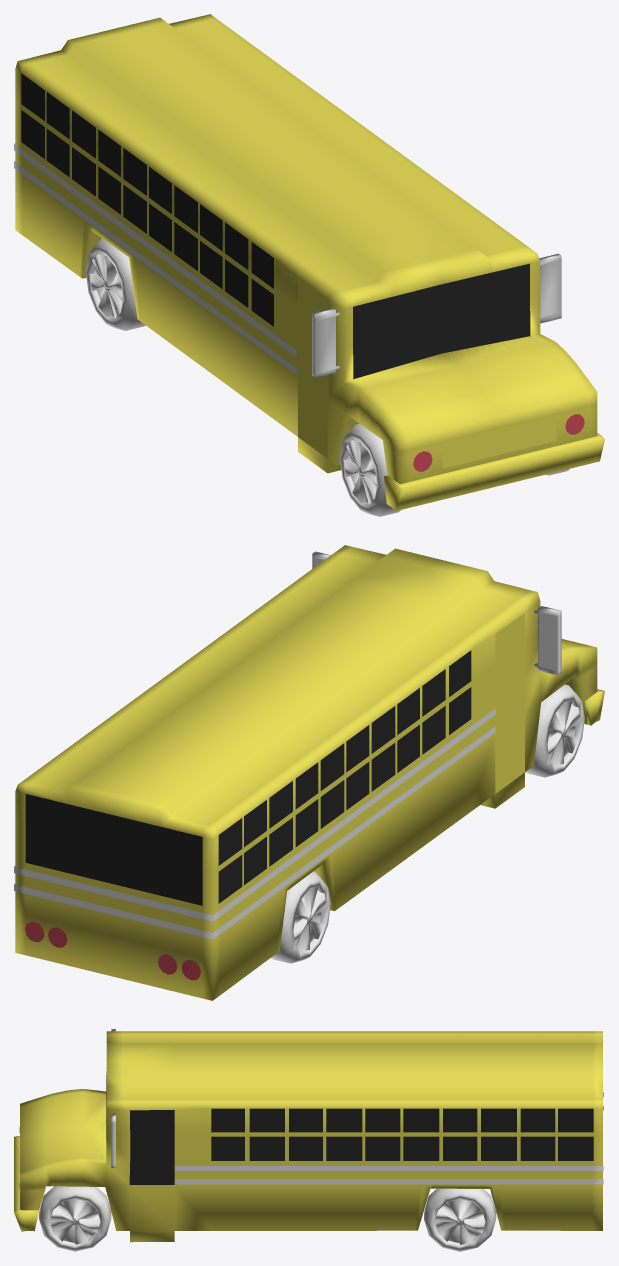
Rendered from bus_school.fbx.
3 renders of one model, top to bottom at view 1: azimuth 30°, elevation 25°; view 2: azimuth 150°, elevation 25°; view 3: azimuth 270°, elevation 25°, orthographic. The views are drawn at different scales.
Visible parts, largest first — view 1: bus, windows, bumper, plasticGuard, door, grill, tyre.002, tyre.001, sideMirror.001, rims.002, sideMirror, rims.001; view 2: bus, windows, plasticGuard, door, tyre.001, tyre.002, rims.001, rims.002, headLight.005, glass.001, sideMirror.001; view 3: bus, windows, plasticGuard, tyre, tyre.003, rims.003, rims, bumper.
Part boxes in pixels (left/top/right/bottom): bus: left=15, top=14, right=597, bottom=484; windows: left=21, top=73, right=530, bottom=379; bumper: left=384, top=433, right=604, bottom=511; plasticGuard: left=14, top=143, right=296, bottom=374; door: left=298, top=277, right=327, bottom=458; grill: left=442, top=415, right=556, bottom=468; tyre.002: left=85, top=238, right=145, bottom=330; tyre.001: left=339, top=423, right=400, bottom=516; sideMirror.001: left=312, top=308, right=339, bottom=377; rims.002: left=89, top=254, right=122, bottom=318; sideMirror: left=539, top=253, right=561, bottom=323; rims.001: left=344, top=440, right=376, bottom=504; bus: left=15, top=545, right=597, bottom=1000; windows: left=25, top=650, right=471, bottom=905; plasticGuard: left=14, top=708, right=495, bottom=939; door: left=495, top=613, right=524, bottom=793; tyre.001: left=525, top=684, right=584, bottom=777; tyre.002: left=271, top=871, right=330, bottom=963; rims.001: left=547, top=701, right=580, bottom=765; rims.002: left=293, top=887, right=326, bottom=951; headLight.005: left=25, top=922, right=200, bottom=980; glass.001: left=539, top=612, right=556, bottom=670; sideMirror.001: left=534, top=606, right=561, bottom=675; bus: left=20, top=1031, right=602, bottom=1242; windows: left=106, top=1075, right=593, bottom=1184; plasticGuard: left=175, top=1092, right=603, bottom=1184; tyre: left=39, top=1186, right=111, bottom=1251; tyre.003: left=424, top=1188, right=496, bottom=1251; rims.003: left=434, top=1199, right=485, bottom=1244; rims: left=50, top=1199, right=100, bottom=1244; bumper: left=14, top=1136, right=38, bottom=1231.
Size of the model in its own units: 1676 by 1347 by 4599.
